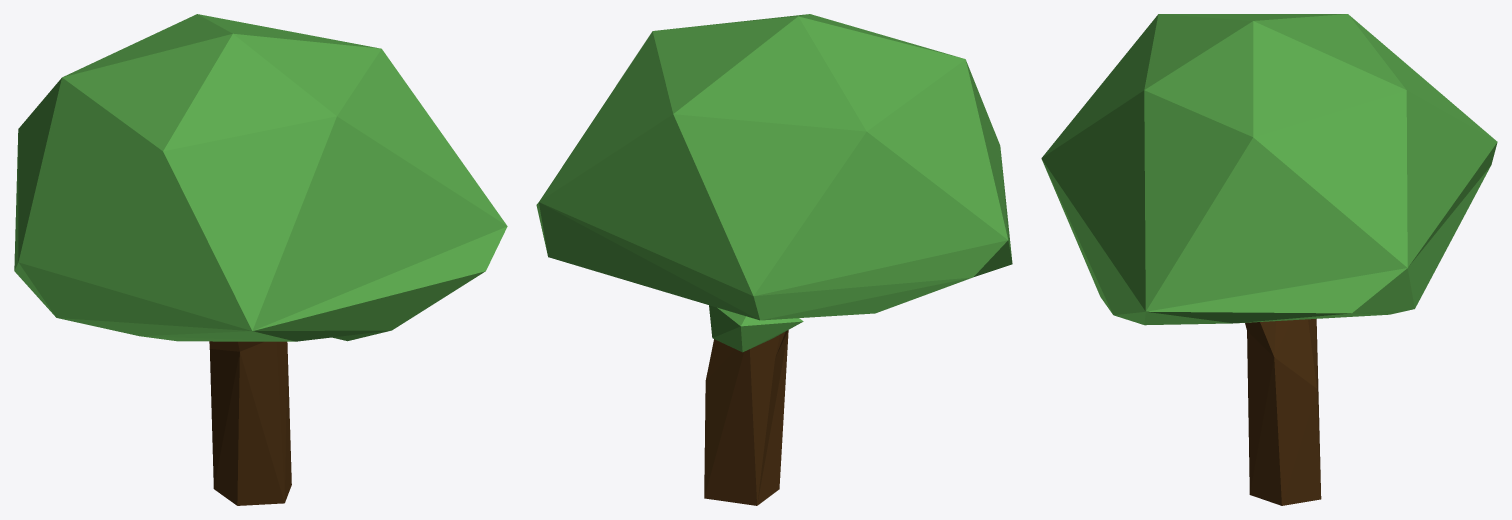
Rendered from tree1.fbx.
The picture shows the model from 3 angles, left to right: view 1: azimuth 30°, elevation 25°; view 2: azimuth 150°, elevation 25°; view 3: azimuth 270°, elevation 25°; orthographic projection. The views are drawn at different scales.
Visible parts, largest first — view 1: tree1; view 2: tree1; view 3: tree1.
Part boxes in pixels (bbox=[...]): tree1: bbox=[14, 14, 507, 505]; tree1: bbox=[536, 14, 1012, 505]; tree1: bbox=[1041, 14, 1497, 505].
Bounding box in the file's own units: 6.23 × 6.62 × 6.07.
